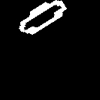chain: (19, 0, 66, 33)
